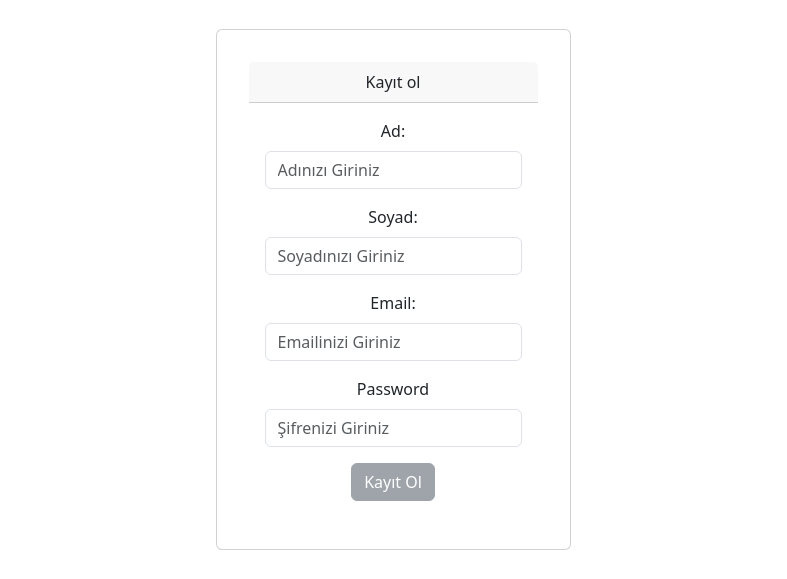
it: Register Page › Error Messages › Password input throws error for 1234
Type "1234" into the password field with test id "password-input". click: (394, 428)
box: [265, 409, 522, 447]
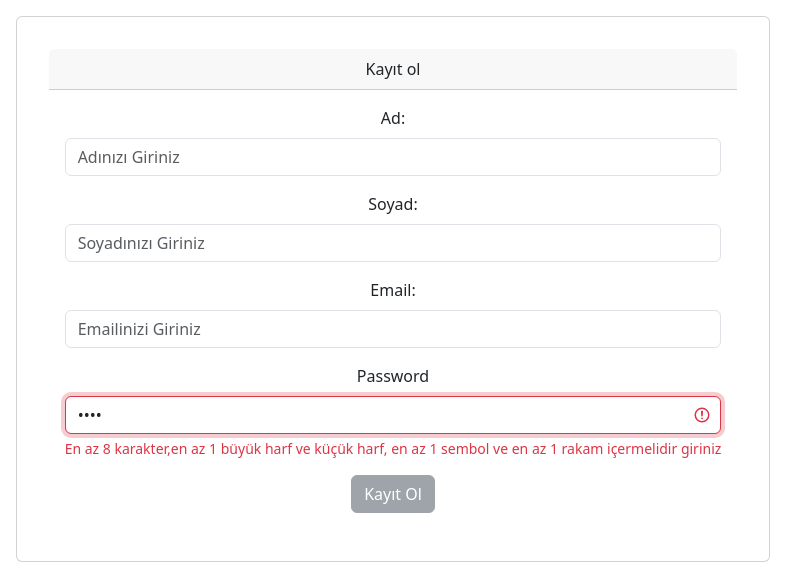
Now the text "En az 8 karakter,en az 1 büyük harf ve küçük harf, en az 1 sembol ve en az 1 rakam içermelidir giriniz" is shown, box [65, 439, 722, 458]
